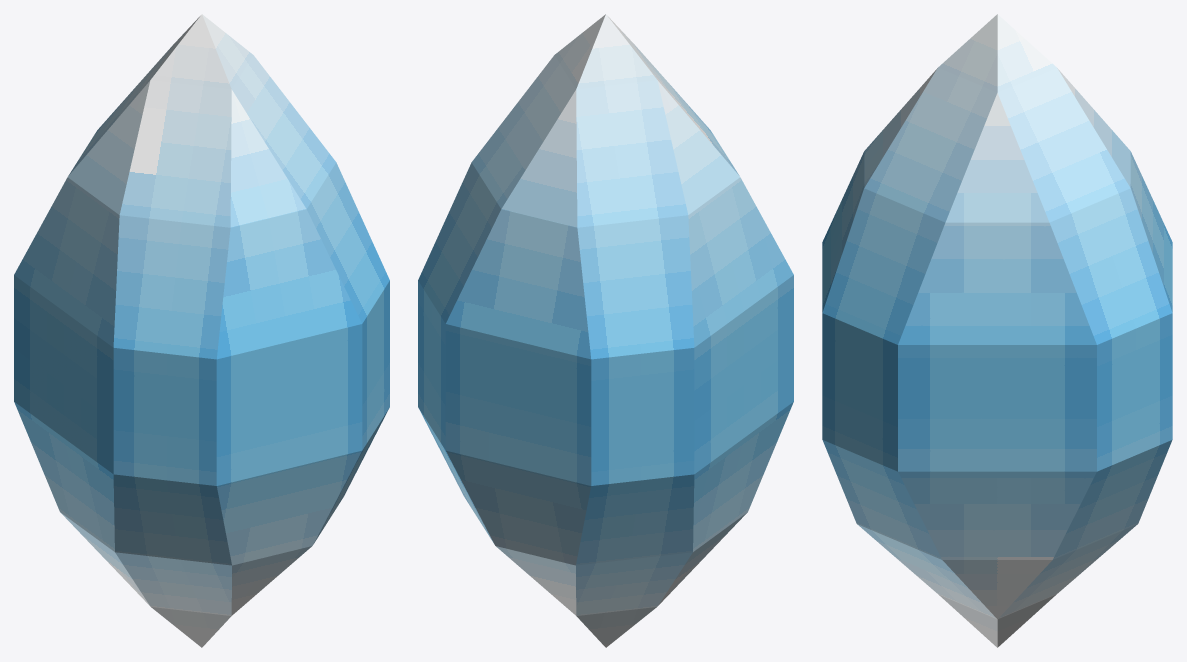
Rendered from DoublePointsCystal_PU.gltf.
The picture shows the model from 3 angles, left to right: view 1: azimuth 30°, elevation 25°; view 2: azimuth 150°, elevation 25°; view 3: azimuth 270°, elevation 25°; orthographic projection.
Parts seen in each view (by area): view 1: Crystal_inside; view 2: Crystal_inside; view 3: Crystal_inside.
Boxes of the visible parts, x1,y1,x2,y2 form: Crystal_inside: [14, 14, 389, 647]; Crystal_inside: [418, 14, 793, 647]; Crystal_inside: [822, 14, 1172, 647].
Bounding box in the file's own units: 0.5948 × 1.3 × 0.6526.
Materials: 1 (1 with a texture image).
